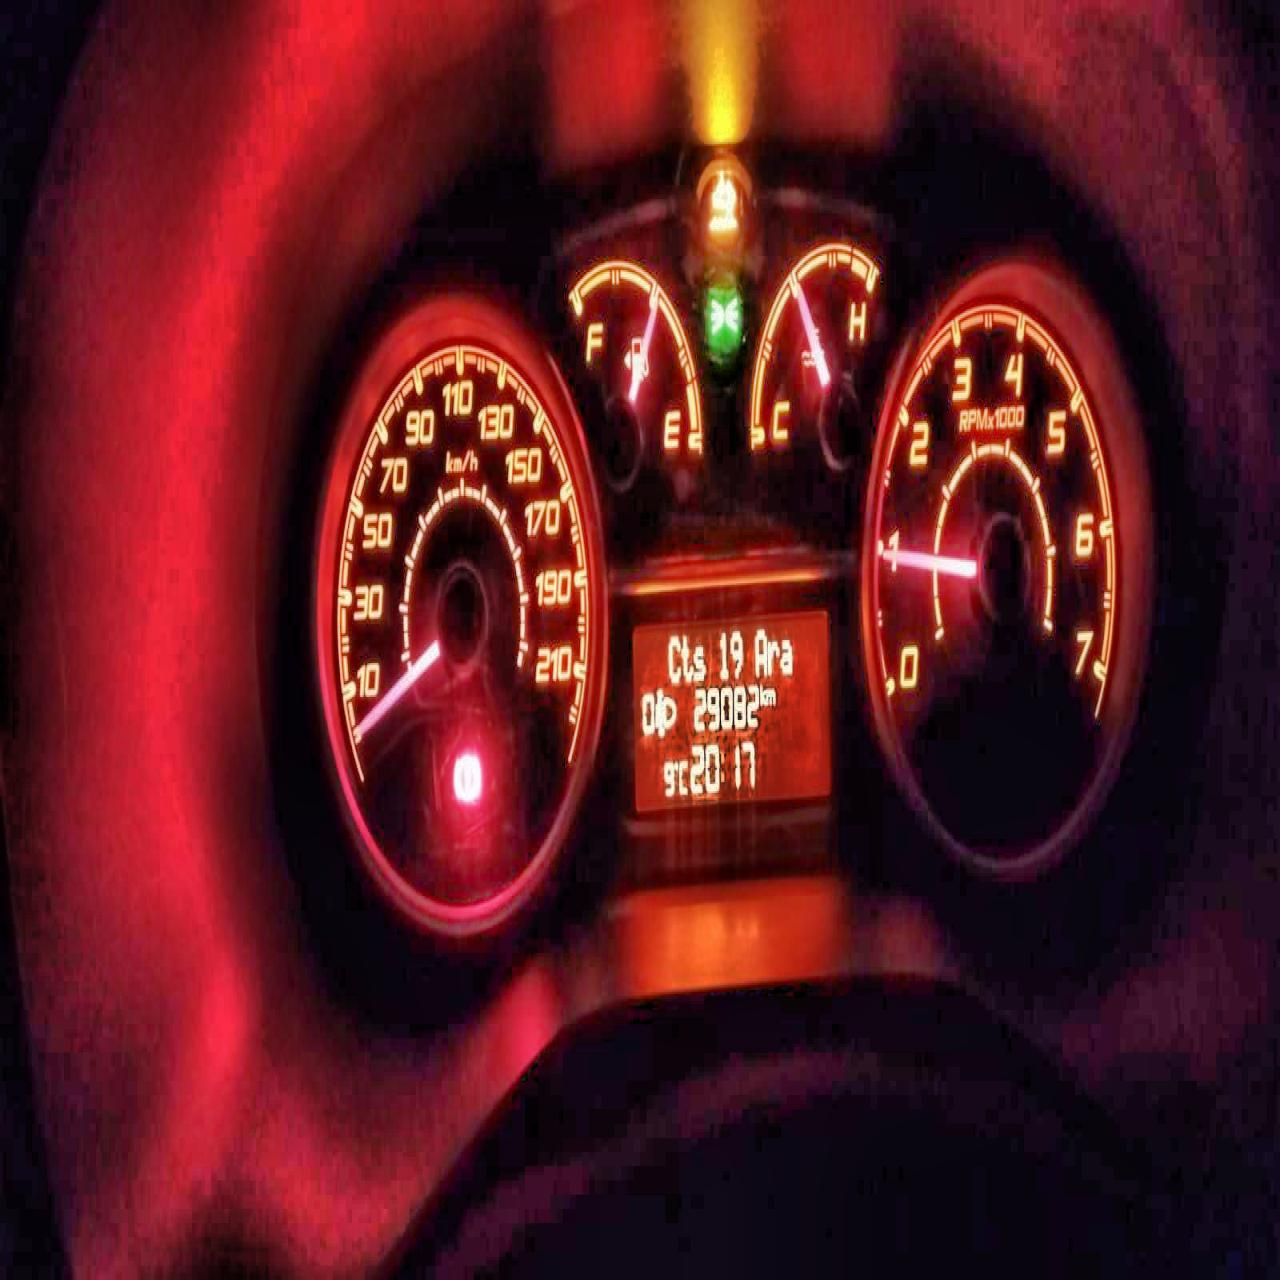0: (704, 740, 720, 792), (640, 686, 654, 734), (719, 681, 731, 729)
1: (731, 741, 741, 792), (719, 629, 728, 679)
2: (692, 741, 703, 795), (693, 687, 706, 733), (747, 681, 758, 727)
7: (742, 740, 755, 785)
8: (734, 682, 745, 727)
9: (729, 627, 743, 678), (707, 682, 719, 730), (663, 760, 674, 797)
X: (667, 629, 680, 687), (754, 625, 767, 675), (680, 629, 692, 685), (779, 636, 794, 675), (693, 640, 706, 681), (767, 634, 779, 674), (679, 754, 688, 795), (720, 744, 727, 782), (765, 685, 776, 708), (760, 681, 765, 707)
odometer: (629, 608, 832, 806)
